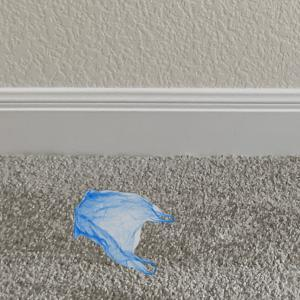plastic_bag: (74, 187, 175, 277)
